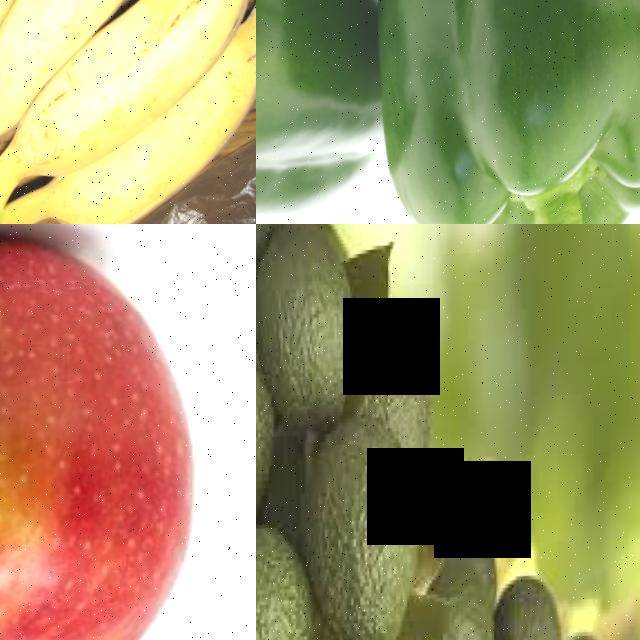apple: (0, 224, 233, 640)
avocado: (281, 417, 426, 640), (256, 224, 367, 448), (347, 322, 446, 499), (416, 512, 503, 640), (256, 516, 319, 640), (256, 224, 302, 379), (256, 326, 284, 547), (479, 576, 571, 640)
banana: (0, 0, 256, 224)
bell pepper: (358, 0, 640, 224), (256, 0, 391, 224)
